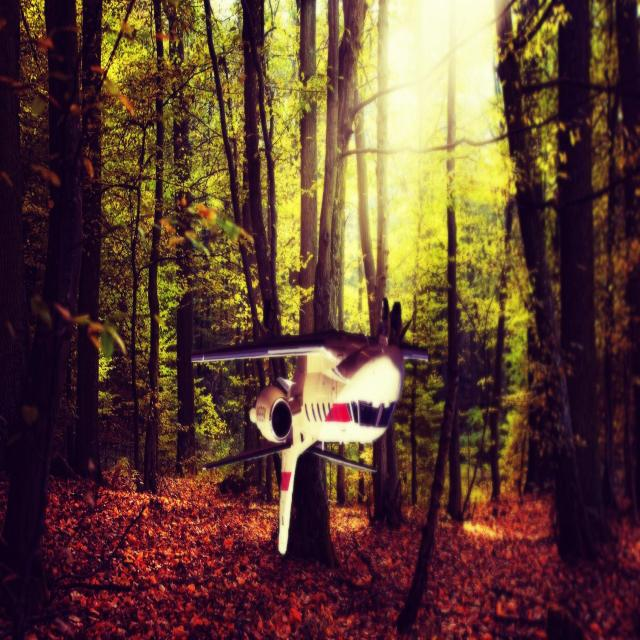airplane: (190, 296, 429, 556)
